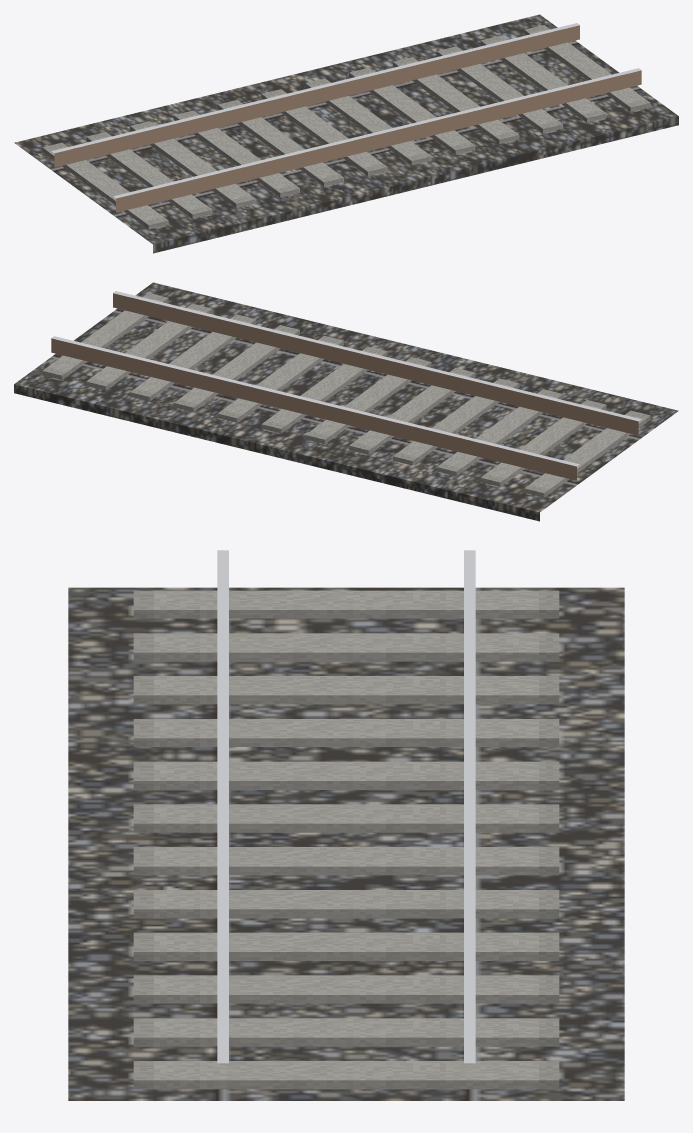
The model's file is kolej_pul_beton.glb.
3 renders of one model, top to bottom at view 1: azimuth 30°, elevation 25°; view 2: azimuth 150°, elevation 25°; view 3: azimuth 270°, elevation 25°, orthographic. The views are drawn at different scales.
Parts seen in each view (by area): view 1: kolej_pul_beton; view 2: kolej_pul_beton; view 3: kolej_pul_beton.
Part boxes in pixels (box(x1,y1,x2,y2)): kolej_pul_beton: box(14, 14, 678, 253); kolej_pul_beton: box(14, 282, 678, 521); kolej_pul_beton: box(68, 550, 624, 1100).
Size of the model in its own units: 7.42 by 0.373 by 3.4.
Materials: 4 (2 with a texture image).
